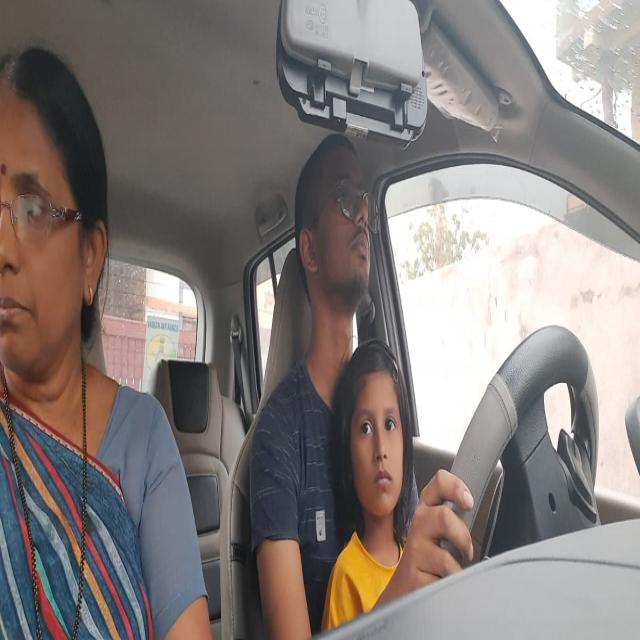child: (338, 328, 420, 538)
person: (0, 48, 114, 398), (295, 127, 374, 341)
